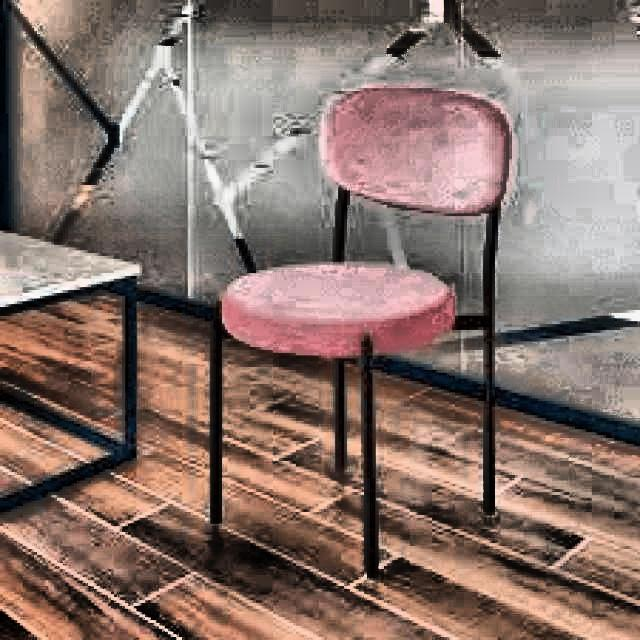cadeira: (206, 82, 514, 576)
